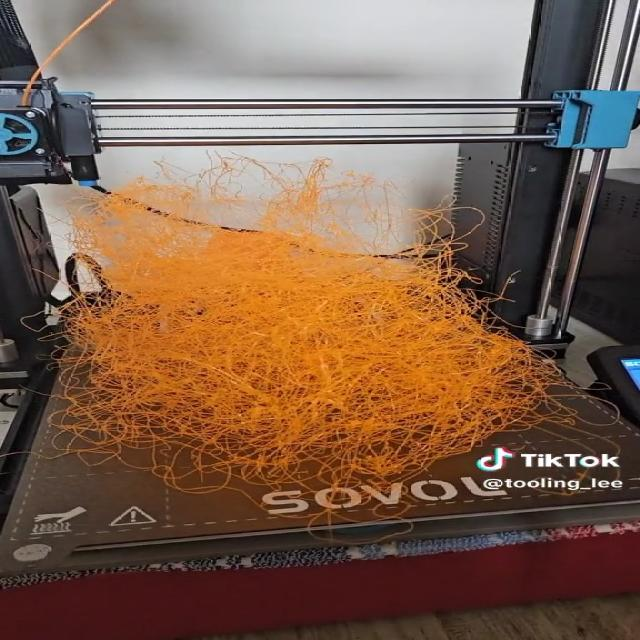spaghetti: (44, 153, 578, 503)
